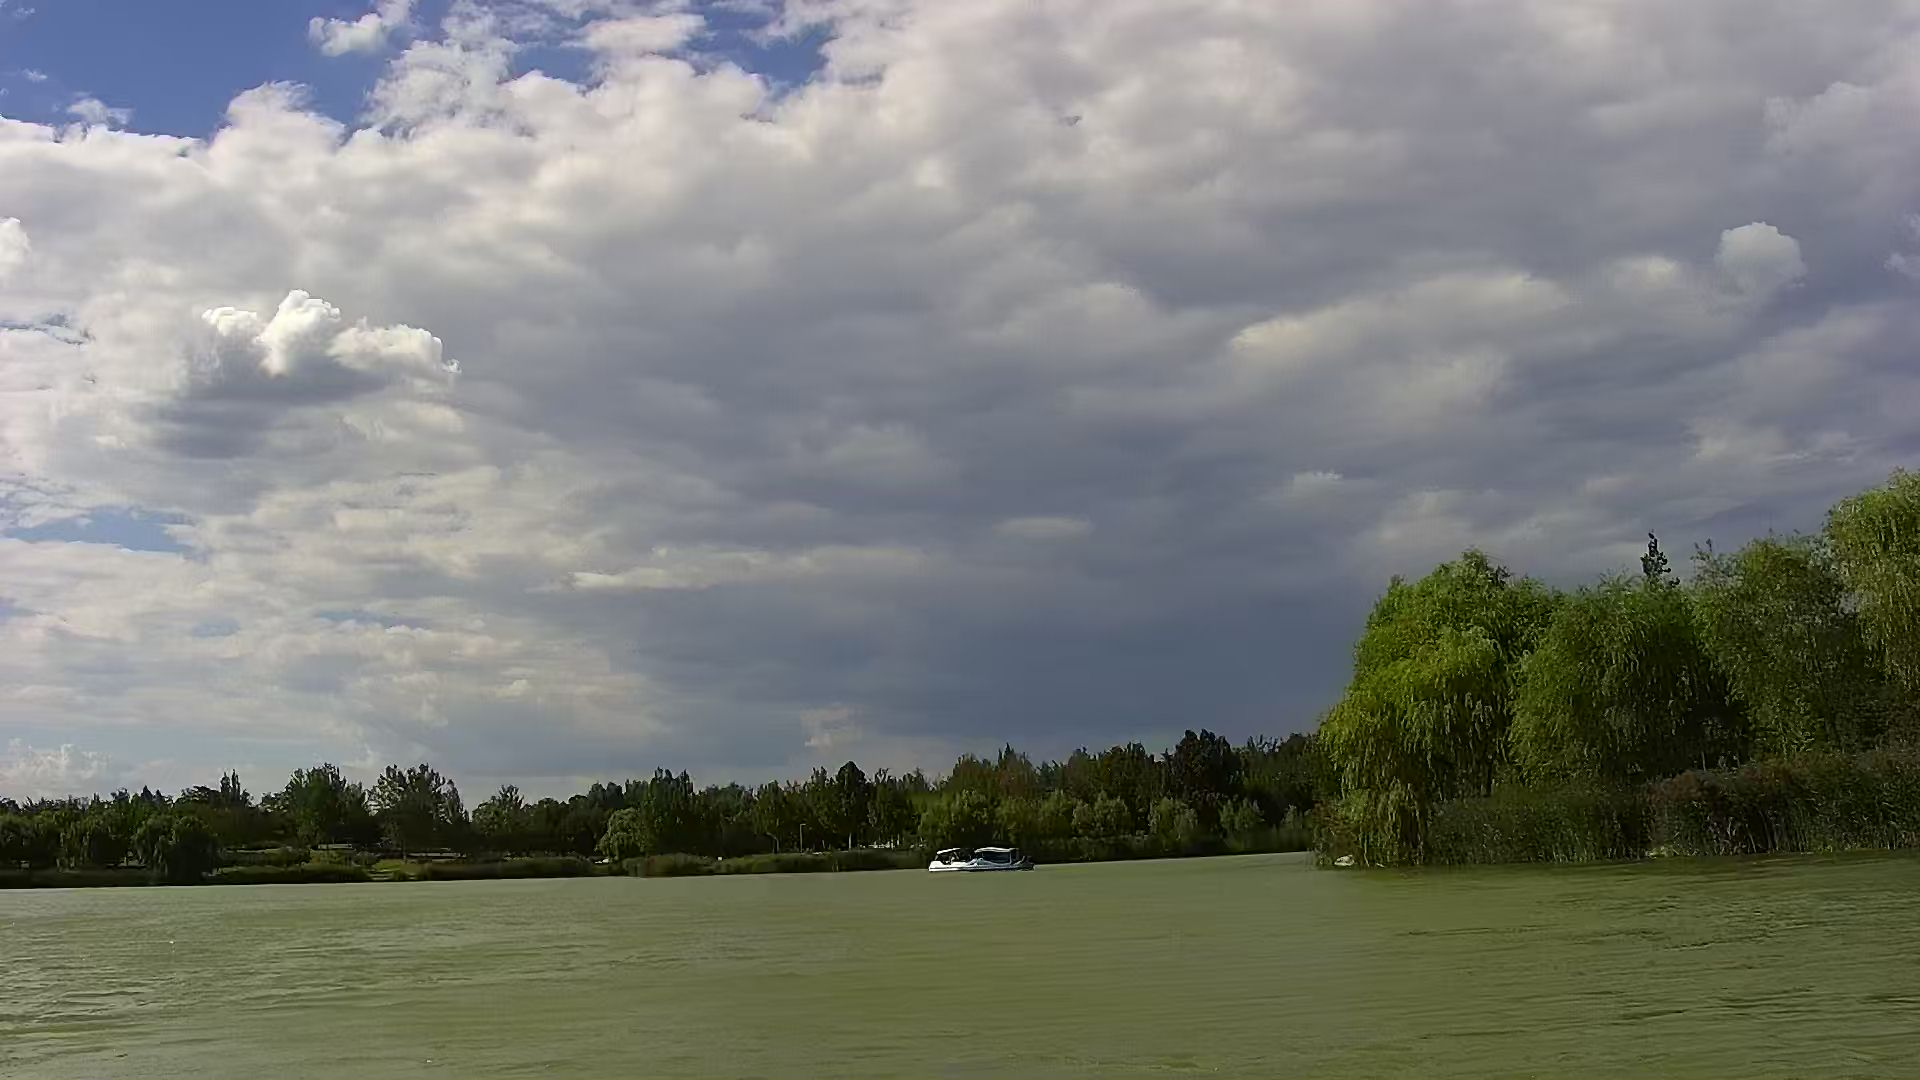boat: (967, 847, 1040, 874), (924, 847, 985, 876)
rock: (1331, 851, 1360, 870)
